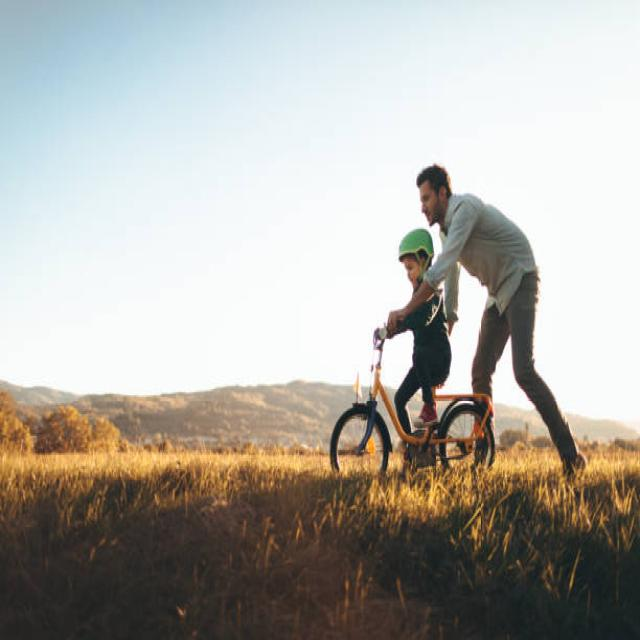Real human 2: (369, 147, 601, 496)
